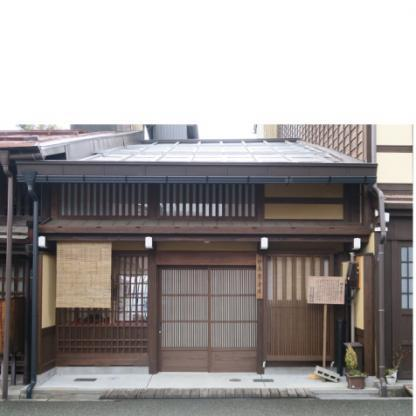Blind: (58, 255, 148, 354), (55, 243, 112, 307)
Building Outline: (16, 130, 378, 374)
Dont: (306, 276, 345, 383)
Door: (157, 265, 257, 372)
Facade: (37, 164, 369, 375)
Floor Slab: (37, 234, 369, 242)
Ground Floor: (38, 243, 370, 375)
Roof: (16, 130, 378, 176), (38, 219, 371, 234)
Top Floor: (37, 176, 369, 234)
Window: (59, 182, 259, 219), (58, 255, 148, 327)
